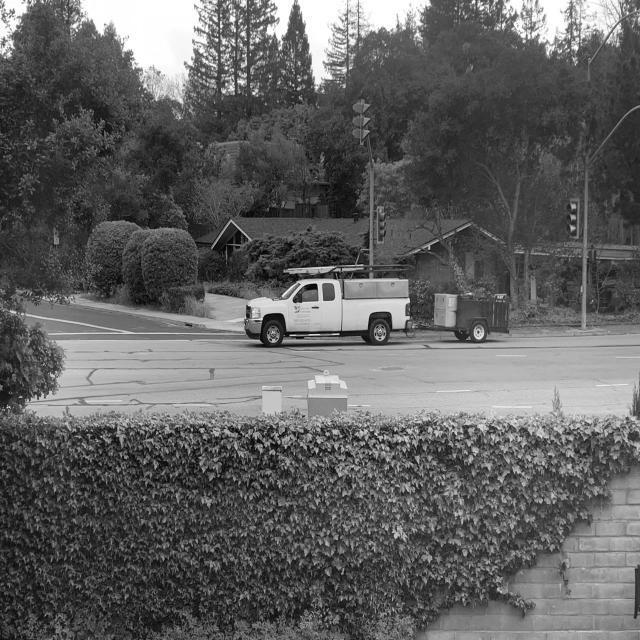Pickup: (244, 265, 425, 347)
Trailer: (418, 294, 511, 343)
